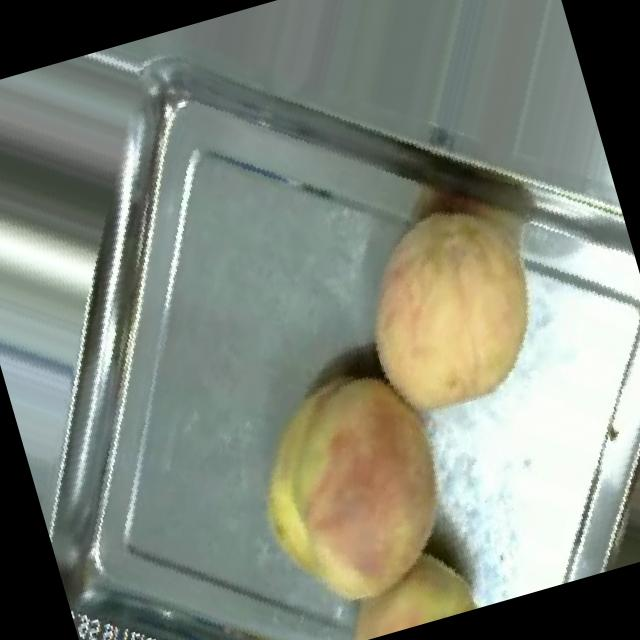Fruit: (200, 321, 510, 640), (308, 163, 601, 459)
